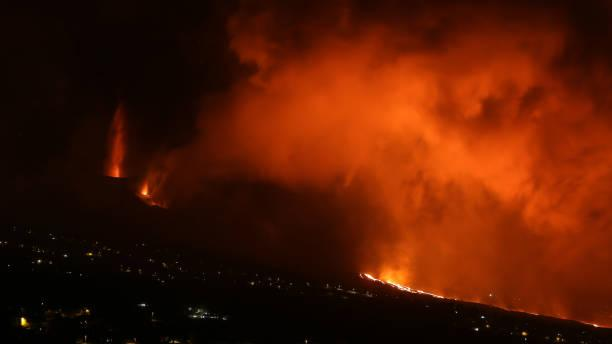Fire: (277, 50, 604, 324)
